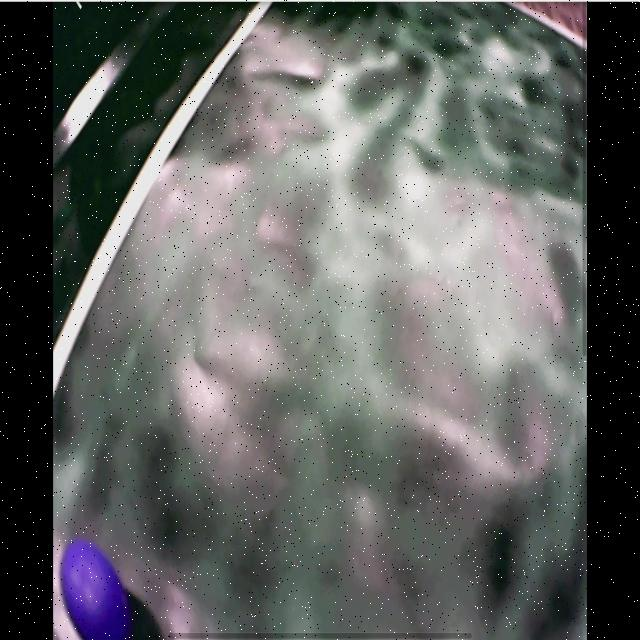ball: (61, 542, 127, 640)
